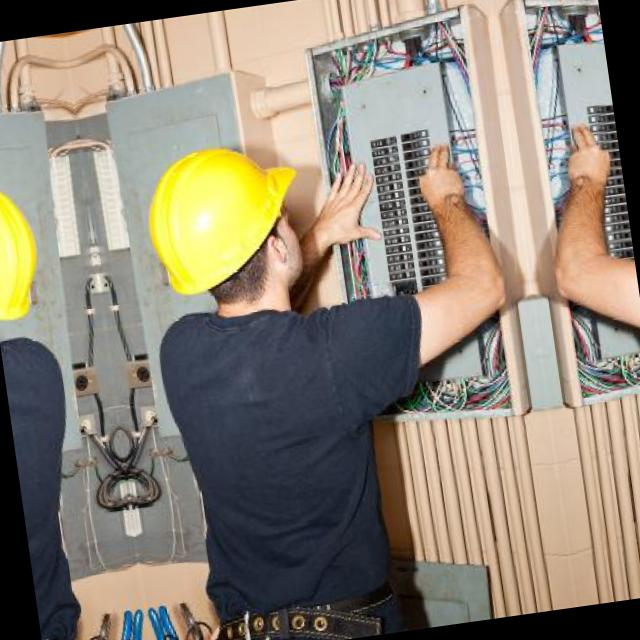helmet: (106, 104, 360, 358), (0, 143, 84, 378)
